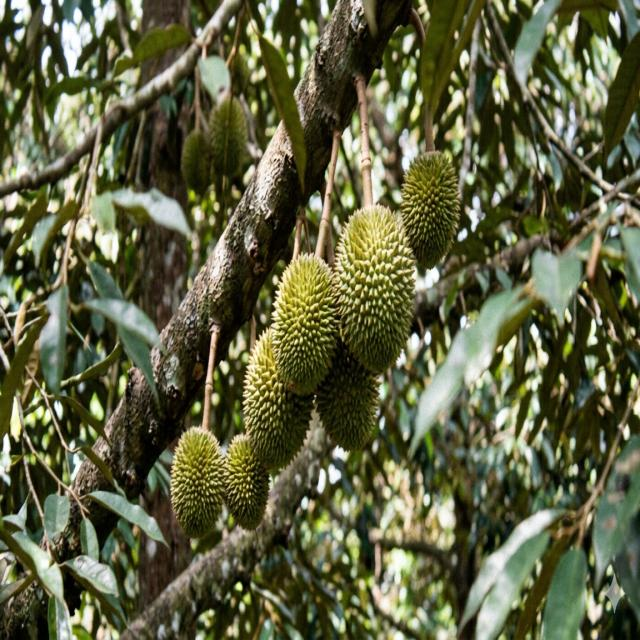immature: (332, 204, 417, 369), (242, 330, 312, 469), (271, 253, 339, 392), (317, 337, 383, 451), (398, 149, 462, 266), (169, 424, 228, 536), (223, 435, 271, 530), (209, 96, 249, 178), (181, 129, 212, 193), (227, 46, 251, 94)
